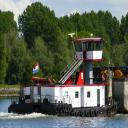tugboat: (8, 34, 121, 121)
